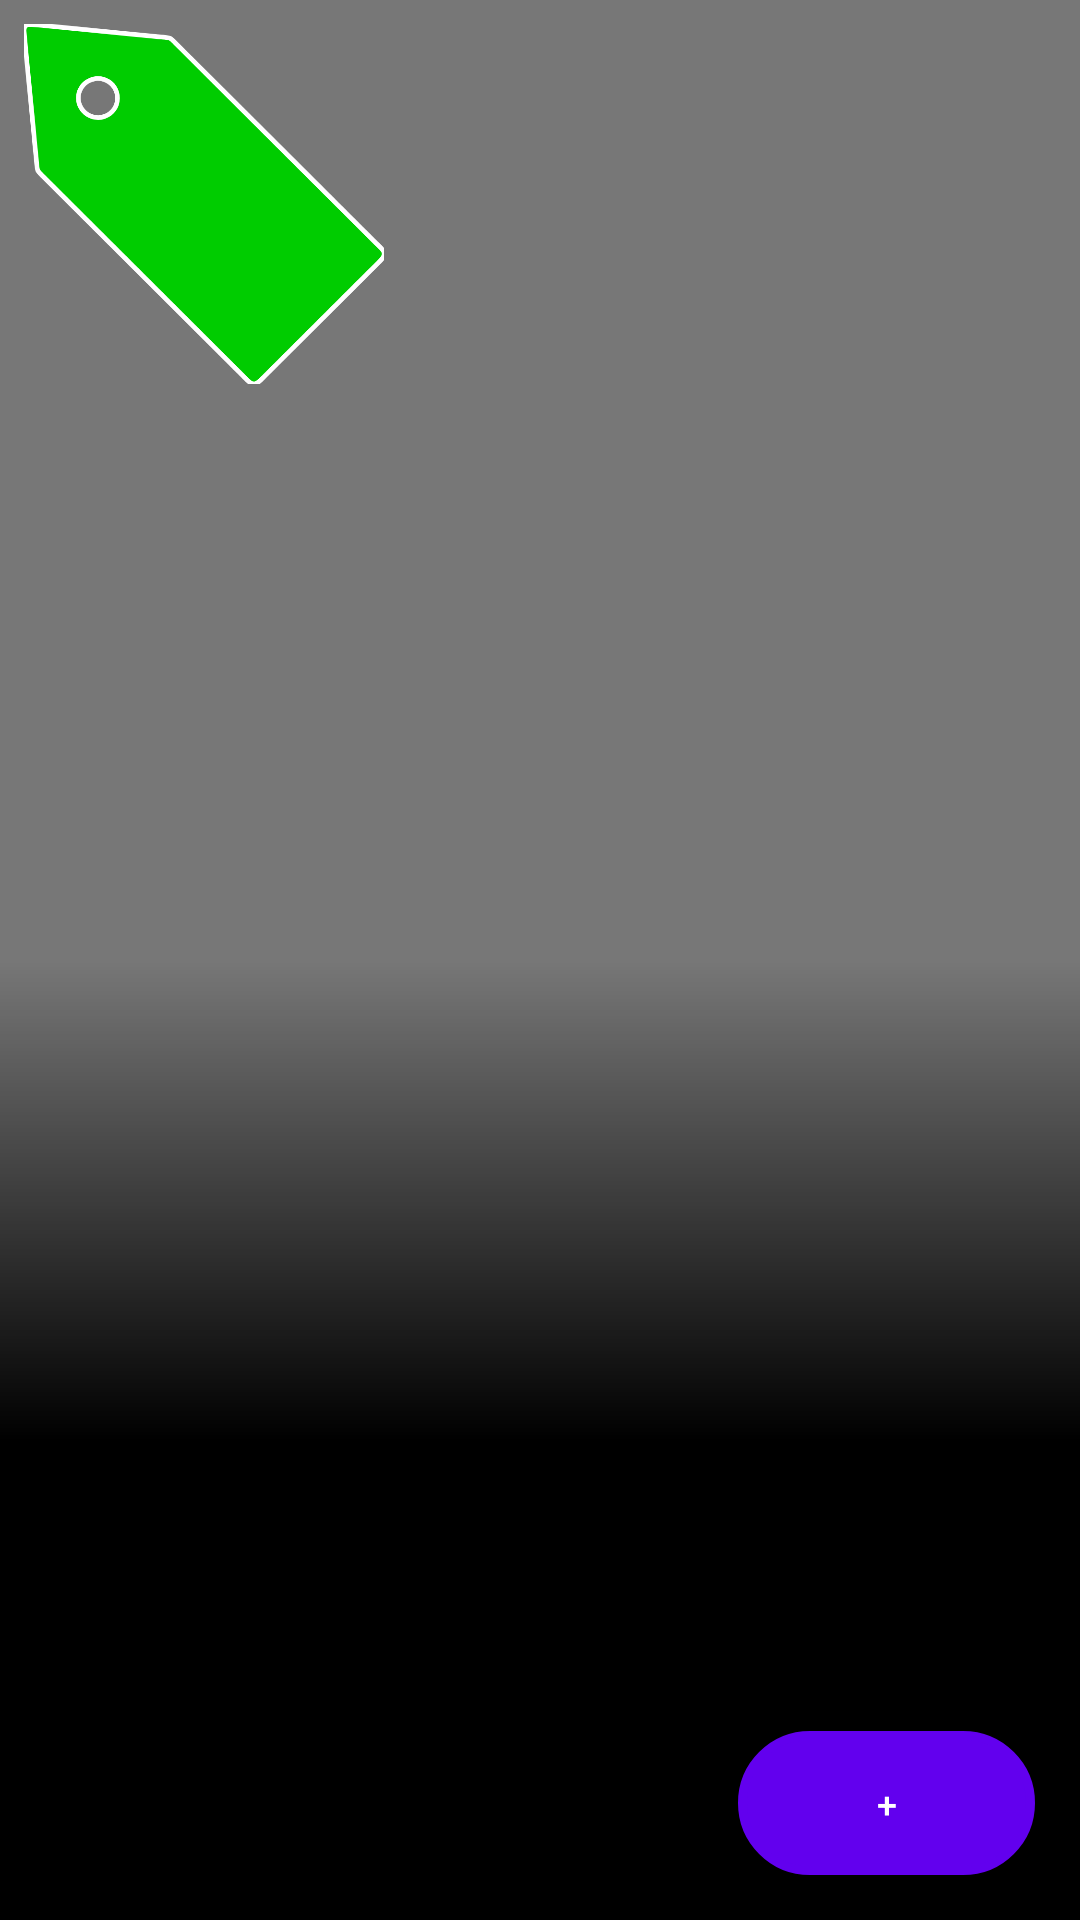

Named icons in this screenshot (1080×1920) and their bounding boxes, (x1,y1,x2,y2):
price tag: (24,24,384,384)
